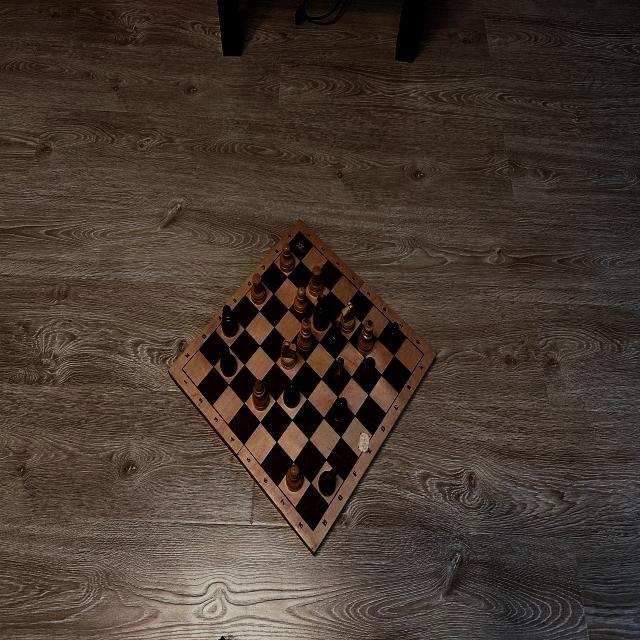chess-table-corners: (309, 527, 317, 535), (297, 228, 302, 234), (421, 352, 427, 357), (180, 366, 185, 372)
